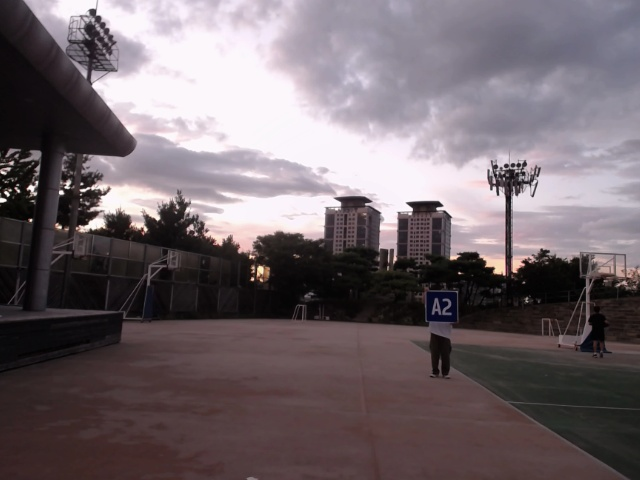delivery_a2: (425, 291, 458, 323)
